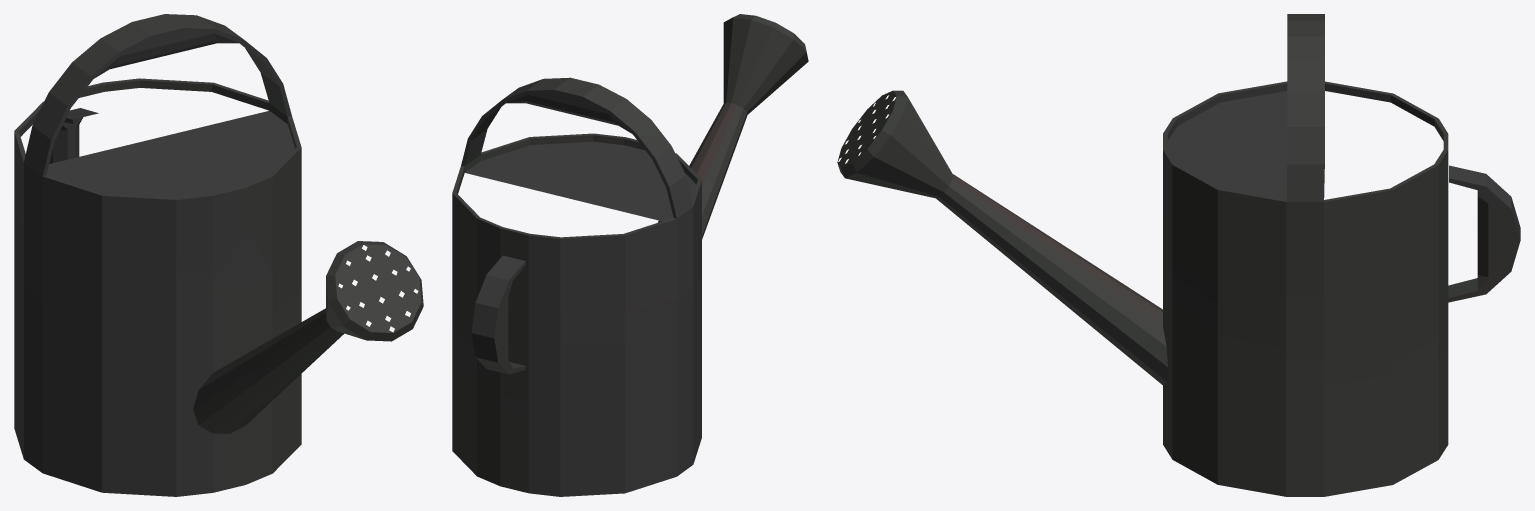
File: watering-can.glb
3 renders of one model, left to right at view 1: azimuth 30°, elevation 25°; view 2: azimuth 150°, elevation 25°; view 3: azimuth 270°, elevation 25°, orthographic. The views are drawn at different scales.
Parts seen in each view (by area): view 1: watering_can; view 2: watering_can; view 3: watering_can.
Boxes of the visible parts, x1=… form: watering_can: x1=14, y1=14, x2=423, y2=496; watering_can: x1=452, y1=14, x2=808, y2=496; watering_can: x1=837, y1=14, x2=1520, y2=496.
Bounding box in the file's own units: 0.1631 × 0.2573 × 0.3902.
1 material, 1 textured.
